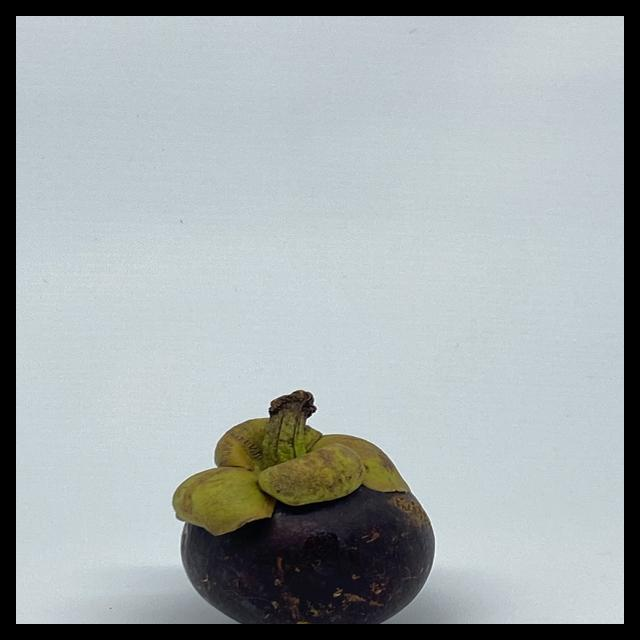mangosteen: (171, 386, 447, 624)
